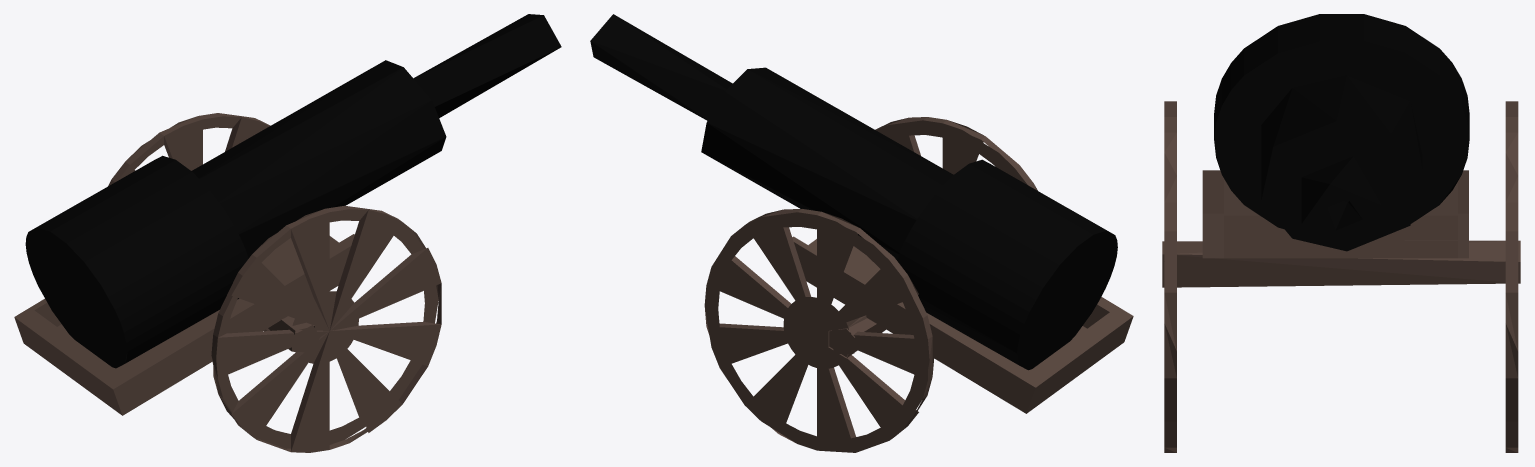
Rendered from Kanone.fbx.
The picture shows the model from 3 angles, left to right: view 1: azimuth 30°, elevation 25°; view 2: azimuth 150°, elevation 25°; view 3: azimuth 270°, elevation 25°; orthographic projection. The views are drawn at different scales.
Parts seen in each view (by area): view 1: Kanone, Rad_links, Halter, Rad_rechts, Zwischenstange; view 2: Kanone, Rad_rechts, Halter, Rad_links, Zwischenstange; view 3: Kanone, Halter, Zwischenstange, Rad_rechts, Rad_links.
Boxes of the visible parts, bbox=[...] form: Kanone: bbox=[25, 14, 561, 368]; Rad_links: bbox=[211, 205, 441, 452]; Halter: bbox=[14, 234, 354, 415]; Rad_rechts: bbox=[108, 113, 270, 186]; Zwischenstange: bbox=[264, 316, 319, 352]; Kanone: bbox=[590, 14, 1117, 370]; Rad_rechts: bbox=[704, 209, 934, 452]; Halter: bbox=[792, 236, 1133, 413]; Rad_links: bbox=[875, 117, 1037, 190]; Zwischenstange: bbox=[828, 315, 885, 358]; Kanone: bbox=[1214, 14, 1469, 251]; Halter: bbox=[1202, 170, 1468, 258]; Zwischenstange: bbox=[1162, 240, 1520, 287]; Rad_rechts: bbox=[1505, 101, 1518, 452]; Rad_links: bbox=[1164, 101, 1176, 452].
Size of the model in its own units: 64.48 by 40.37 by 30.22.
Materials: 2 (1 with a texture image).
